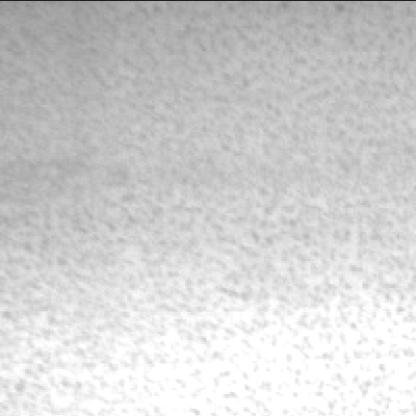pitted_surface: (6, 2, 416, 416)
